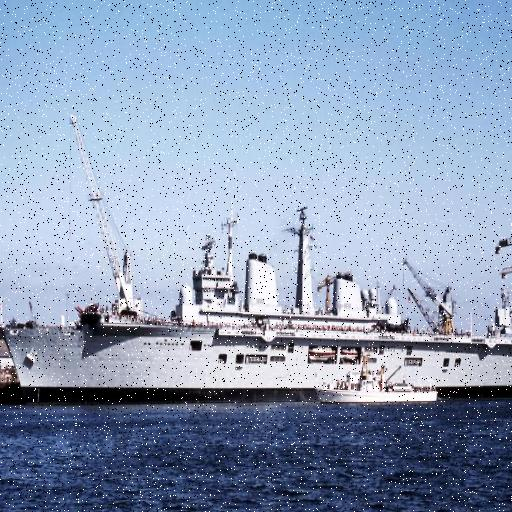Portanaves: (1, 197, 512, 409)
